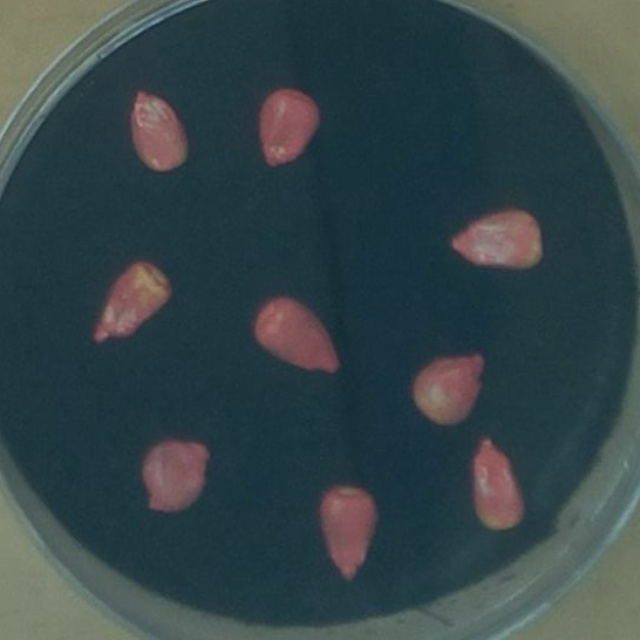Zea mays: (242, 283, 351, 387), (83, 249, 180, 352), (441, 199, 550, 280), (308, 477, 386, 590), (132, 426, 222, 521), (247, 79, 331, 178), (461, 430, 535, 542), (403, 344, 494, 434), (120, 84, 199, 182)
